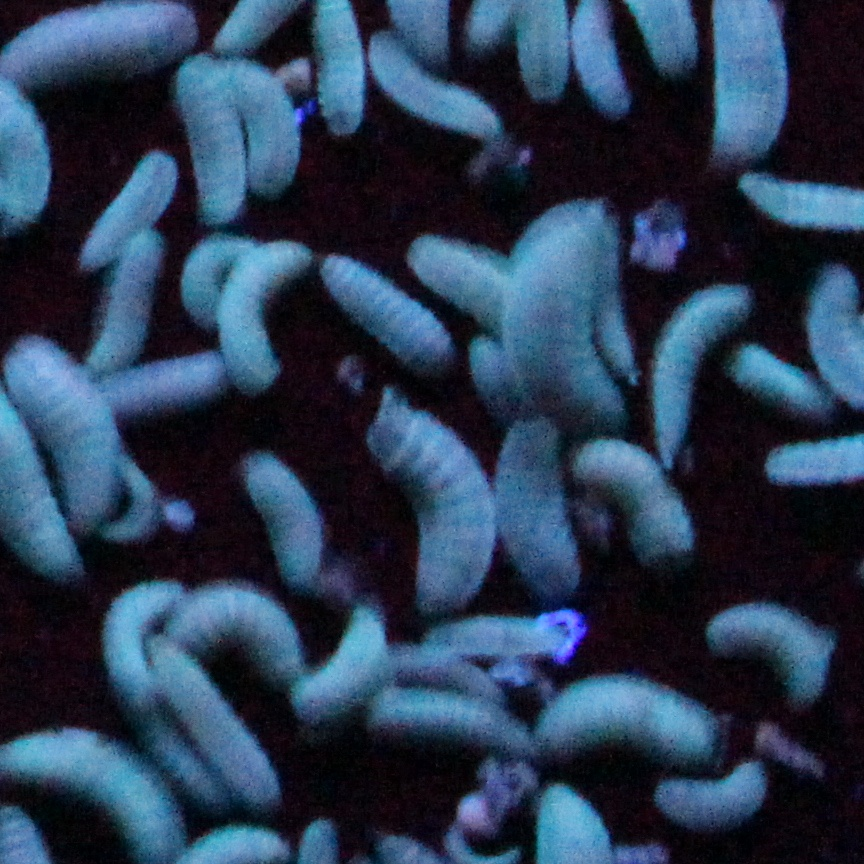larve: (353, 399, 498, 613), (515, 165, 621, 432), (635, 264, 752, 475), (206, 220, 317, 400), (519, 661, 722, 759), (552, 423, 696, 561), (317, 238, 460, 371), (214, 44, 314, 215), (696, 595, 845, 708), (162, 53, 265, 199), (232, 448, 334, 587), (78, 141, 178, 276), (291, 599, 389, 726), (96, 562, 173, 715), (653, 746, 768, 830)
